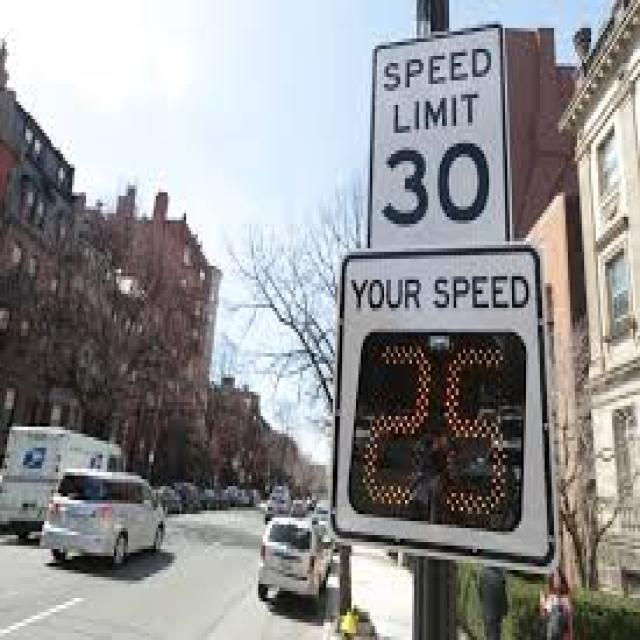speedLimit35: (372, 26, 503, 247)
